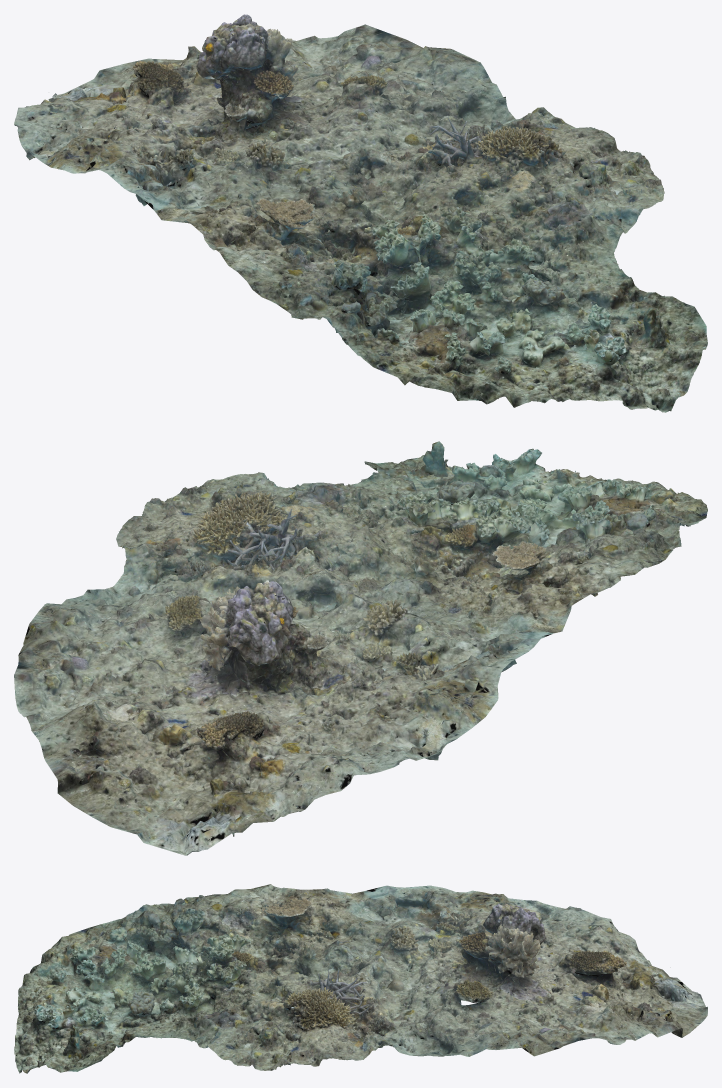
Rendered from reef_okinawa.glb.
3 renders of one model, top to bottom at view 1: azimuth 30°, elevation 25°; view 2: azimuth 150°, elevation 25°; view 3: azimuth 270°, elevation 25°, orthographic. The views are drawn at different scales.
Parts seen in each view (by area): view 1: Model_material0_0; view 2: Model_material0_0; view 3: Model_material0_0.
Part boxes in pixels (box(x1,y1,x2,y2)): Model_material0_0: box(14, 14, 707, 412); Model_material0_0: box(14, 441, 707, 855); Model_material0_0: box(14, 884, 707, 1073).
Size of the model in its own units: 9.66 by 3.52 by 16.85.
1 material, 1 textured.
